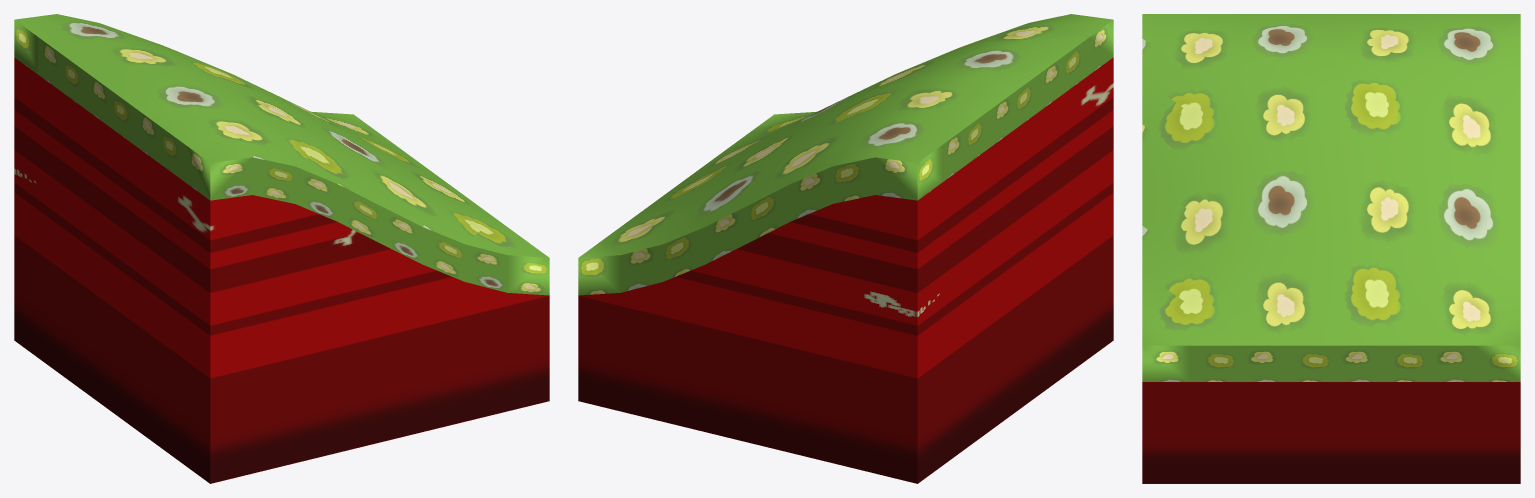
The model's file is block_rect_curved_hill_4x4.obj.
3 renders of one model, left to right at view 1: azimuth 30°, elevation 25°; view 2: azimuth 150°, elevation 25°; view 3: azimuth 270°, elevation 25°, orthographic. The views are drawn at different scales.
Visible parts, largest first — view 1: polySurface6 polySurface5, polySurface5 polySurface8, polySurface5 polySurface7; view 2: polySurface6 polySurface5, polySurface5 polySurface8, polySurface5 polySurface7; view 3: polySurface5 polySurface8, polySurface6 polySurface5, polySurface5 polySurface7.
Part boxes in pixels (left/top/right/bottom): polySurface6 polySurface5: left=14, top=57, right=549, bottom=483; polySurface5 polySurface8: left=15, top=14, right=548, bottom=257; polySurface5 polySurface7: left=14, top=20, right=549, bottom=295; polySurface6 polySurface5: left=578, top=57, right=1113, bottom=483; polySurface5 polySurface8: left=579, top=14, right=1112, bottom=257; polySurface5 polySurface7: left=578, top=20, right=1113, bottom=295; polySurface5 polySurface8: left=1142, top=14, right=1520, bottom=345; polySurface6 polySurface5: left=1142, top=382, right=1520, bottom=483; polySurface5 polySurface7: left=1142, top=345, right=1520, bottom=381.
Size of the model in its own units: 400 by 366 by 400.
